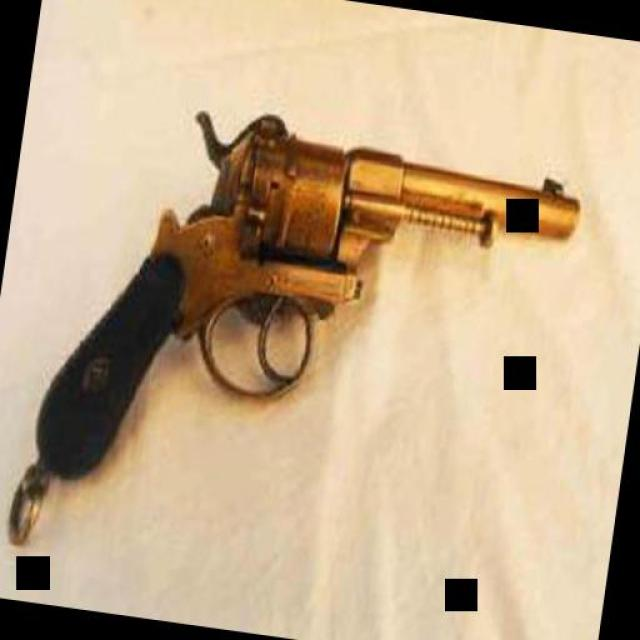gun: (27, 80, 585, 542)
